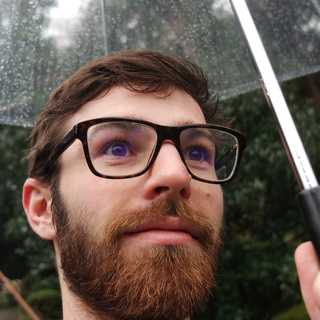eye: (92, 139, 144, 167), (180, 140, 212, 172)
